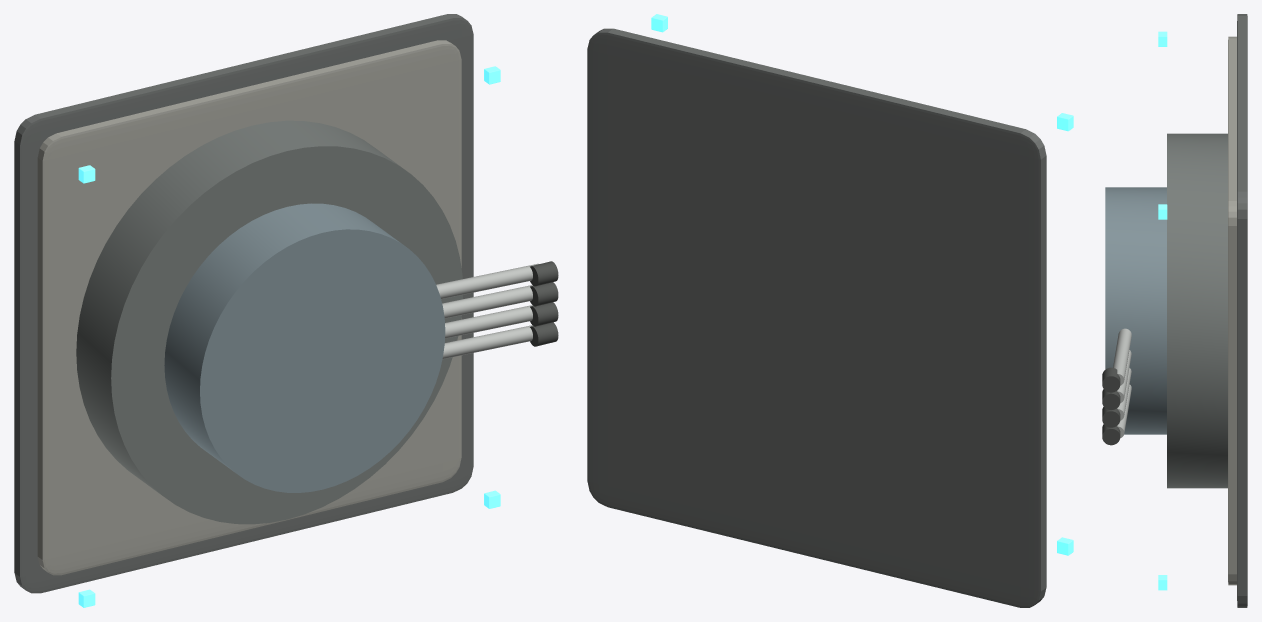
Rendered from b-29-autocannon-turret-lod1.glb.
3 renders of one model, left to right at view 1: azimuth 30°, elevation 25°; view 2: azimuth 150°, elevation 25°; view 3: azimuth 270°, elevation 25°, orthographic. The views are drawn at different scales.
Visible parts, largest first — view 1: foundation_inner_pad, primary_turret_yaw, turret_base, foundation, autocannon_barrel_3, autocannon_barrel_2, autocannon_barrel_0, autocannon_barrel_1; view 2: foundation; view 3: turret_base, primary_turret_yaw, foundation, foundation_inner_pad, autocannon_barrel_3, autocannon_muzzle_3, autocannon_muzzle_0, autocannon_muzzle_1, autocannon_muzzle_2, autocannon_barrel_0, autocannon_barrel_1, autocannon_barrel_2.
Boxes of the visible parts, x1,y1,x2,y2 form: foundation_inner_pad: (37,40,461,575); primary_turret_yaw: (164,203,445,492); turret_base: (76,120,462,524); foundation: (14,14,473,593); autocannon_barrel_3: (436,263,538,299); autocannon_barrel_2: (442,285,532,318); autocannon_barrel_0: (442,325,532,358); autocannon_barrel_1: (445,305,532,338); foundation: (587,28,1046,607); turret_base: (1167,133,1227,488); primary_turret_yaw: (1105,187,1166,434); foundation: (1237,14,1247,607); foundation_inner_pad: (1228,36,1236,585); autocannon_barrel_3: (1113,328,1131,385); autocannon_muzzle_3: (1102,367,1120,392); autocannon_muzzle_0: (1102,424,1120,445); autocannon_muzzle_1: (1102,406,1120,427); autocannon_muzzle_2: (1102,389,1120,409); autocannon_barrel_0: (1117,384,1131,437); autocannon_barrel_1: (1117,368,1131,420); autocannon_barrel_2: (1117,350,1131,402).
Size of what is drawn, in the model's own units: 8.64 by 8.5 by 2.71.
